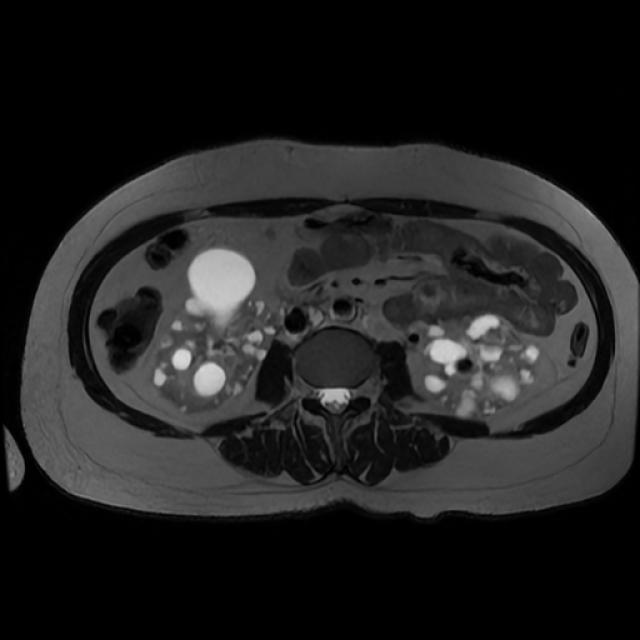sag: (154, 251, 276, 413)
sol: (424, 311, 539, 418)
